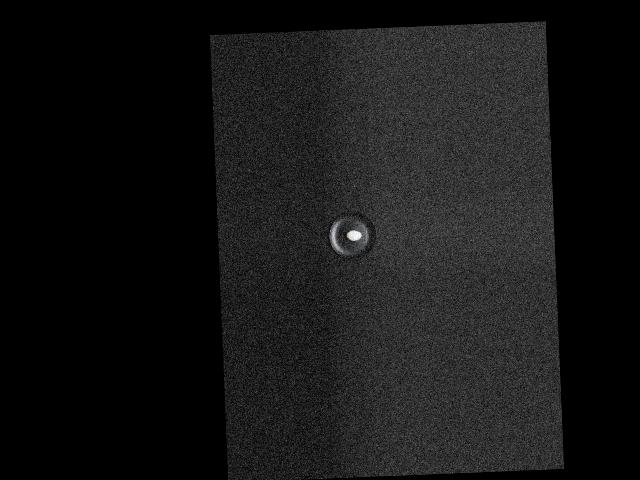egg: (346, 229, 361, 241)
